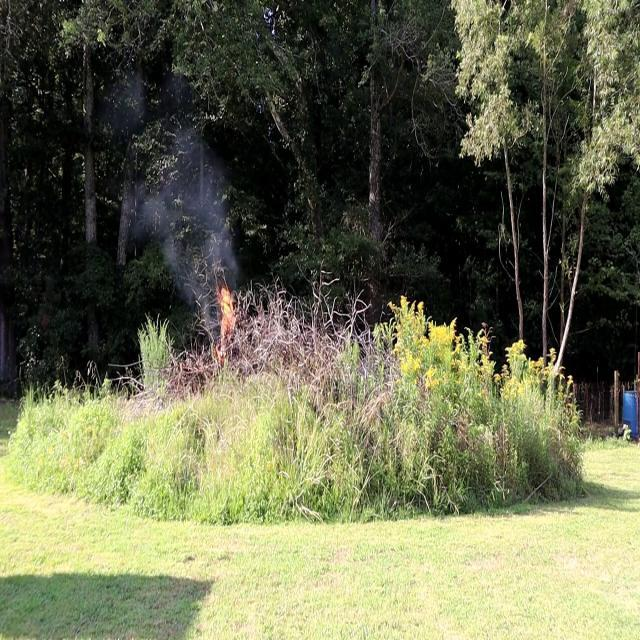Fire: (214, 278, 238, 334)
Smoke: (156, 129, 238, 300)
